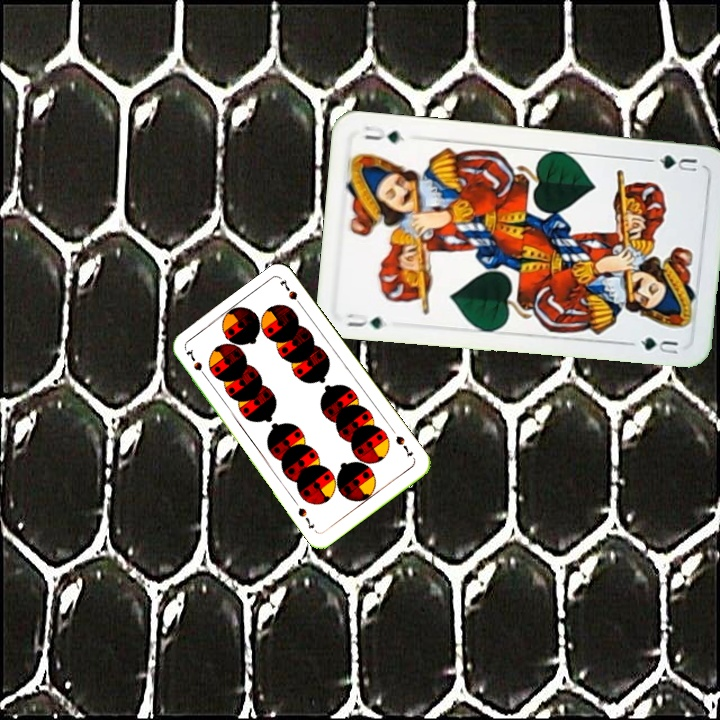GU: (645, 151, 700, 175), (342, 309, 385, 332)
S7: (182, 345, 210, 382), (391, 432, 415, 461)
